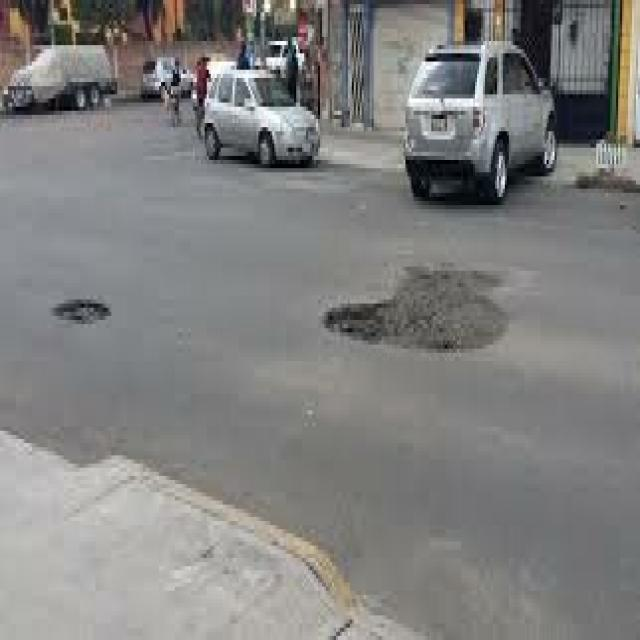Buraco: (318, 264, 512, 355), (50, 296, 114, 326)
